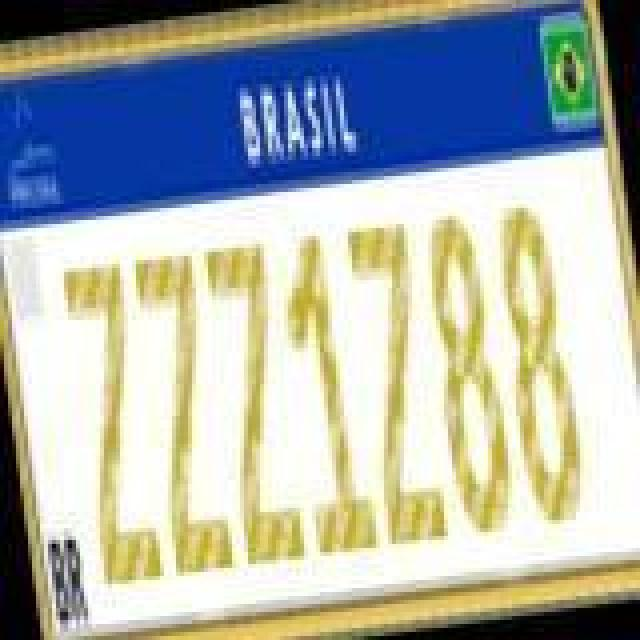1: (272, 224, 384, 560)
8: (408, 200, 520, 536), (480, 192, 592, 528)
Z: (58, 256, 166, 592), (130, 244, 238, 580), (202, 234, 310, 566), (348, 220, 452, 556)
